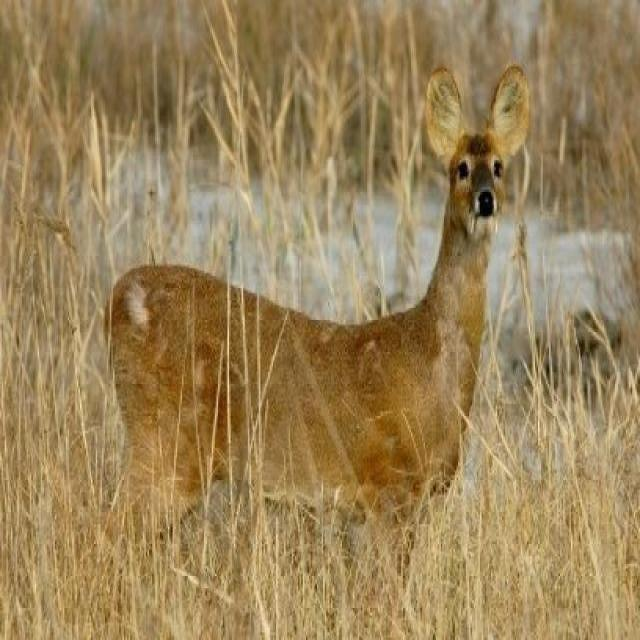deer: (100, 61, 540, 575)
